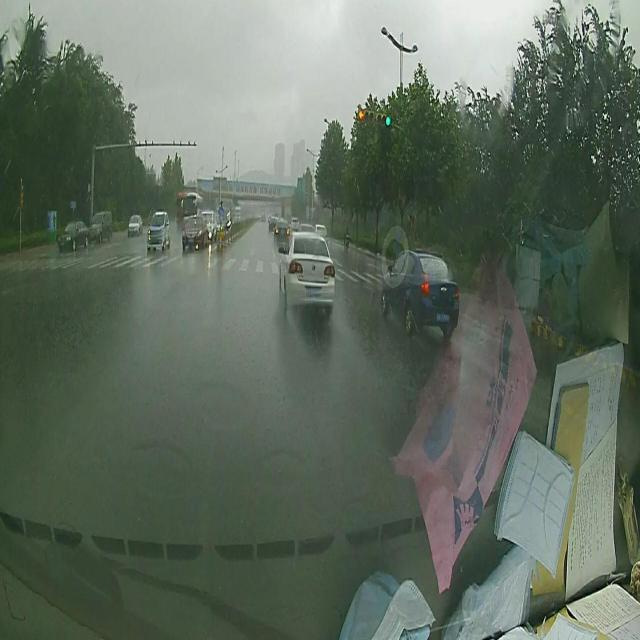car: (380, 249, 460, 332), (278, 233, 336, 318), (56, 221, 91, 252), (146, 209, 170, 249), (180, 217, 207, 252), (88, 212, 112, 242), (274, 217, 288, 250), (128, 216, 142, 236)
